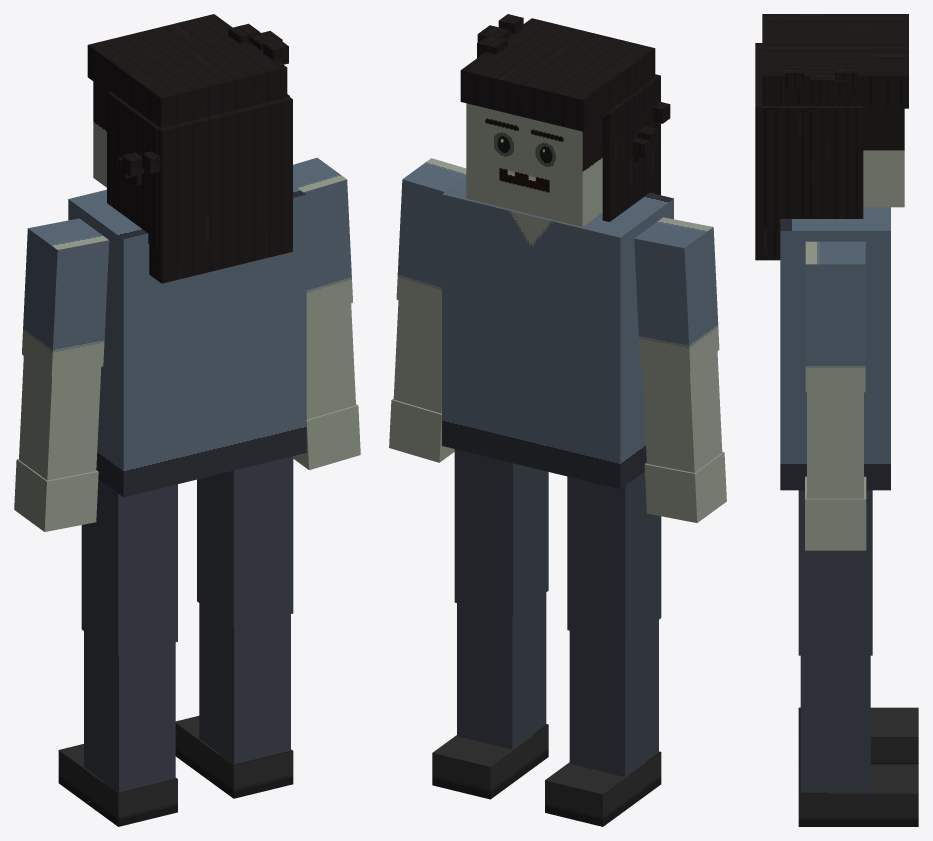
Rendered from hair_wild.glb.
3 renders of one model, left to right at view 1: azimuth 30°, elevation 25°; view 2: azimuth 150°, elevation 25°; view 3: azimuth 270°, elevation 25°, orthographic. The views are drawn at different scales.
Parts seen in each view (by area): view 1: block_torso, block_hair-long, block_hair-cap, block_thigh.L, block_thigh.R, block_shin.L, block_shin.R, block_upper_arm.L, block_forearm.L, block_upper_arm.R, block_hair-lock, block_forearm.R (+5 smaller); view 2: block_torso, block_hair-cap, block_thigh.L, block_thigh.R, block_head, block_shin.R, block_shin.L, block_upper_arm.L, block_forearm.L, block_upper_arm.R, block_hair-lock, block_foot.L (+4 smaller); view 3: block_torso, block_hair-cap, block_hair-lock, block_shin.R, block_upper_arm.R, block_thigh.R, block_forearm.R, block_foot.R, block_head, block_hand.R, block_foot.L, block_hair-long (+1 smaller).
Part boxes in pixels (box(x1,y1,x2,y2)): block_torso: box(68, 185, 306, 497); block_hair-long: box(143, 95, 292, 283); block_hair-cap: box(87, 14, 287, 127); block_thigh.L: box(81, 479, 177, 656); block_thigh.R: box(197, 456, 293, 627); block_shin.L: box(84, 631, 175, 792); block_shin.R: box(199, 603, 290, 764); block_upper_arm.L: box(22, 218, 109, 375); block_forearm.L: box(19, 356, 101, 480); block_upper_arm.R: box(293, 157, 352, 316); block_hair-lock: box(107, 91, 158, 249); block_forearm.R: box(306, 303, 355, 419); block_torso: box(442, 177, 673, 489); block_hair-cap: box(460, 18, 655, 131); block_thigh.L: box(567, 471, 661, 643); block_thigh.R: box(454, 449, 548, 616); block_head: box(466, 103, 602, 226); block_shin.R: box(457, 592, 546, 749); block_shin.L: box(569, 620, 658, 776); block_upper_arm.L: box(634, 217, 719, 371); block_forearm.L: box(642, 351, 722, 472); block_upper_arm.R: box(396, 158, 466, 312); block_hair-lock: box(602, 78, 657, 221); block_foot.L: box(545, 751, 661, 826); block_torso: box(780, 207, 890, 490); block_hair-cap: box(762, 14, 908, 108); block_hair-lock: box(763, 106, 863, 229); block_shin.R: box(800, 655, 870, 792); block_upper_arm.R: box(805, 241, 865, 392); block_thigh.R: box(798, 490, 872, 655); block_forearm.R: box(807, 392, 863, 498); block_foot.R: box(798, 764, 918, 826); block_head: box(863, 108, 904, 207); block_hand.R: box(805, 476, 866, 550); block_foot.L: box(798, 707, 918, 764); block_hair-long: box(755, 43, 793, 260).
Size of the model in its own units: 0.7948 by 1.79 by 0.354.
Materials: 1 (1 with a texture image).
